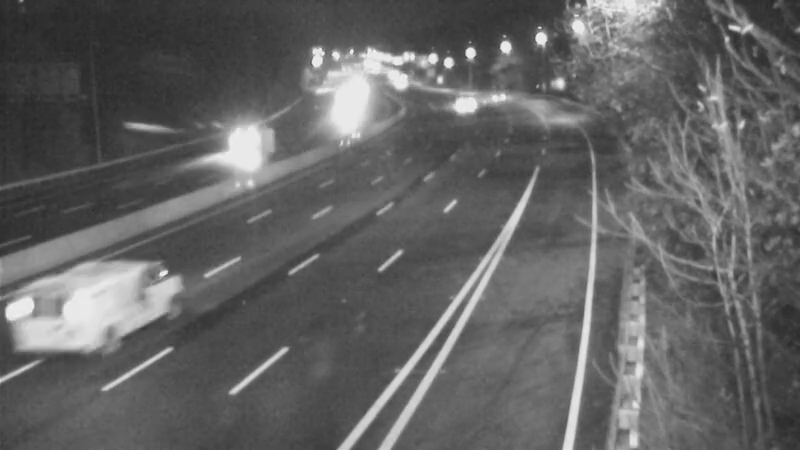vehicle: (66, 251, 146, 331), (472, 75, 522, 125), (434, 75, 484, 125), (211, 123, 261, 173)
